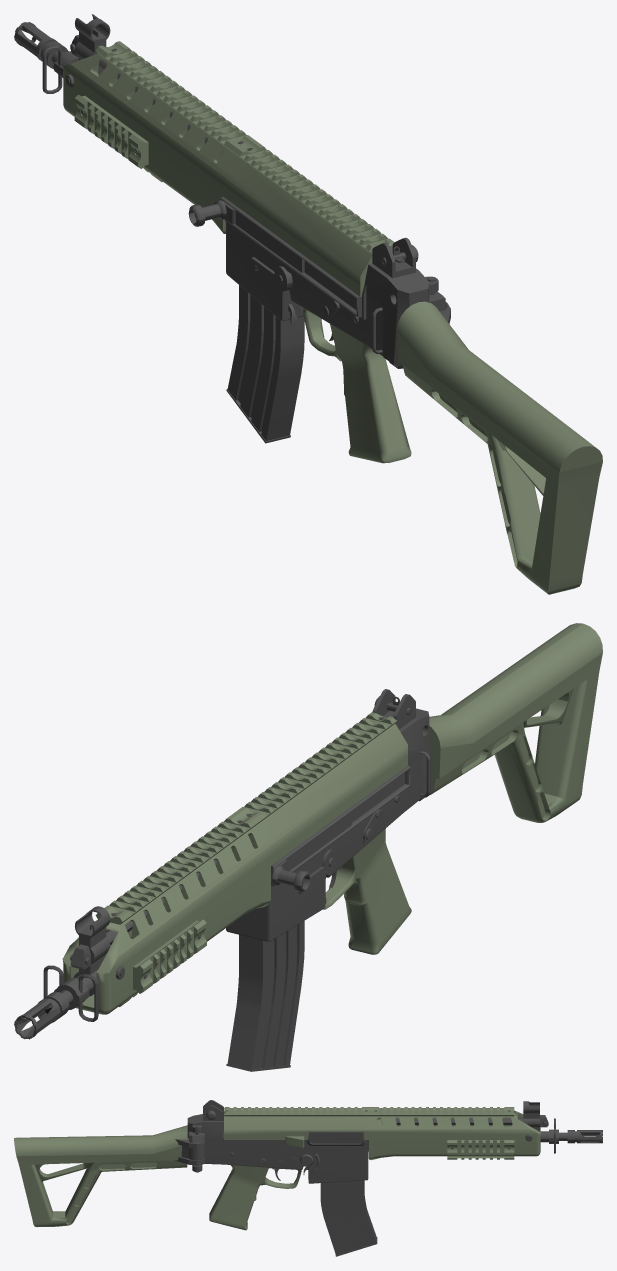
File: carabina.glb
3 views of the same model, one above another, from view 1: azimuth 30°, elevation 25°; view 2: azimuth 150°, elevation 25°; view 3: azimuth 270°, elevation 25° (orthographic). The views are drawn at different scales.
Parts seen in each view (by area): view 1: buttOnly, mainBody_Guardhand, body_rear, clipOnly, track_up, gunGrip, trilho_lateral_L, HammerOnly, hammerFrame, mainBarrel, aim_rear_base, polySurface77; view 2: buttOnly, mainBody_Guardhand, clipOnly, body_rear, track_up, gunGrip, trilho_lateral_L, mainBarrel, polySurface77, HammerOnly, hammerFrame, aim_rear_base (+1 smaller); view 3: mainBody_Guardhand, buttOnly, body_rear, clipOnly, track_up, gunGrip, trilho_lateral_R, mainBarrel, fakeHinge, ammoChamberCover, polySurface77, clipChamberFrame (+3 smaller).
Boxes of the visible parts, <box> form: buttOnly: <box>397,301,602,594</box>; mainBody_Guardhand: <box>63,53,392,296</box>; body_rear: <box>225,220,429,368</box>; clipOnly: <box>226,285,304,443</box>; track_up: <box>95,41,393,253</box>; gunGrip: <box>300,306,411,463</box>; trilho_lateral_L: <box>74,94,148,168</box>; HammerOnly: <box>188,199,304,272</box>; hammerFrame: <box>221,196,361,317</box>; mainBarrel: <box>14,22,78,77</box>; aim_rear_base: <box>372,237,415,278</box>; polySurface77: <box>70,14,110,75</box>; buttOnly: <box>429,623,602,822</box>; mainBody_Guardhand: <box>62,723,407,1014</box>; clipOnly: <box>226,921,304,1071</box>; body_rear: <box>226,708,432,941</box>; track_up: <box>95,712,397,924</box>; gunGrip: <box>323,828,411,954</box>; trilho_lateral_L: <box>133,919,206,993</box>; mainBarrel: <box>14,937,131,1039</box>; polySurface77: <box>70,906,110,996</box>; HammerOnly: <box>272,811,351,892</box>; hammerFrame: <box>271,765,410,886</box>; aim_rear_base: <box>372,689,415,729</box>; mainBody_Guardhand: <box>224,1110,540,1160</box>; buttOnly: <box>14,1125,187,1227</box>; body_rear: <box>187,1114,368,1183</box>; clipOnly: <box>320,1180,377,1256</box>; track_up: <box>224,1107,514,1116</box>; gunGrip: <box>209,1165,301,1230</box>; trilho_lateral_R: <box>447,1140,514,1155</box>; mainBarrel: <box>540,1129,602,1143</box>; fakeHinge: <box>175,1131,204,1165</box>; ammoChamberCover: <box>309,1132,363,1143</box>; polySurface77: <box>523,1101,548,1131</box>; clipChamberFrame: <box>306,1131,366,1145</box>.
Bounding box in the file's own units: 0.1021 × 0.2955 × 1.04.
